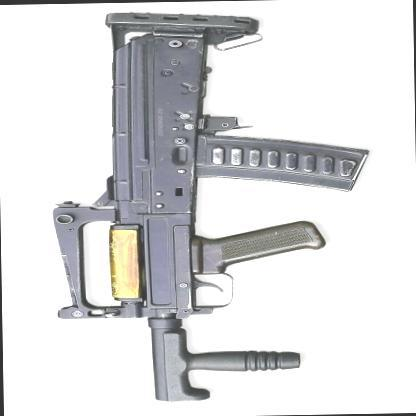rifle: (31, 12, 366, 400)
